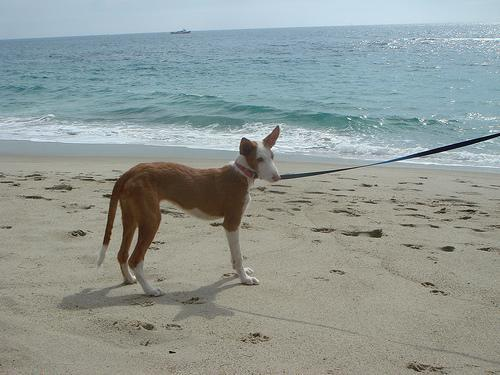Ibizan_hound: (97, 125, 281, 296)
